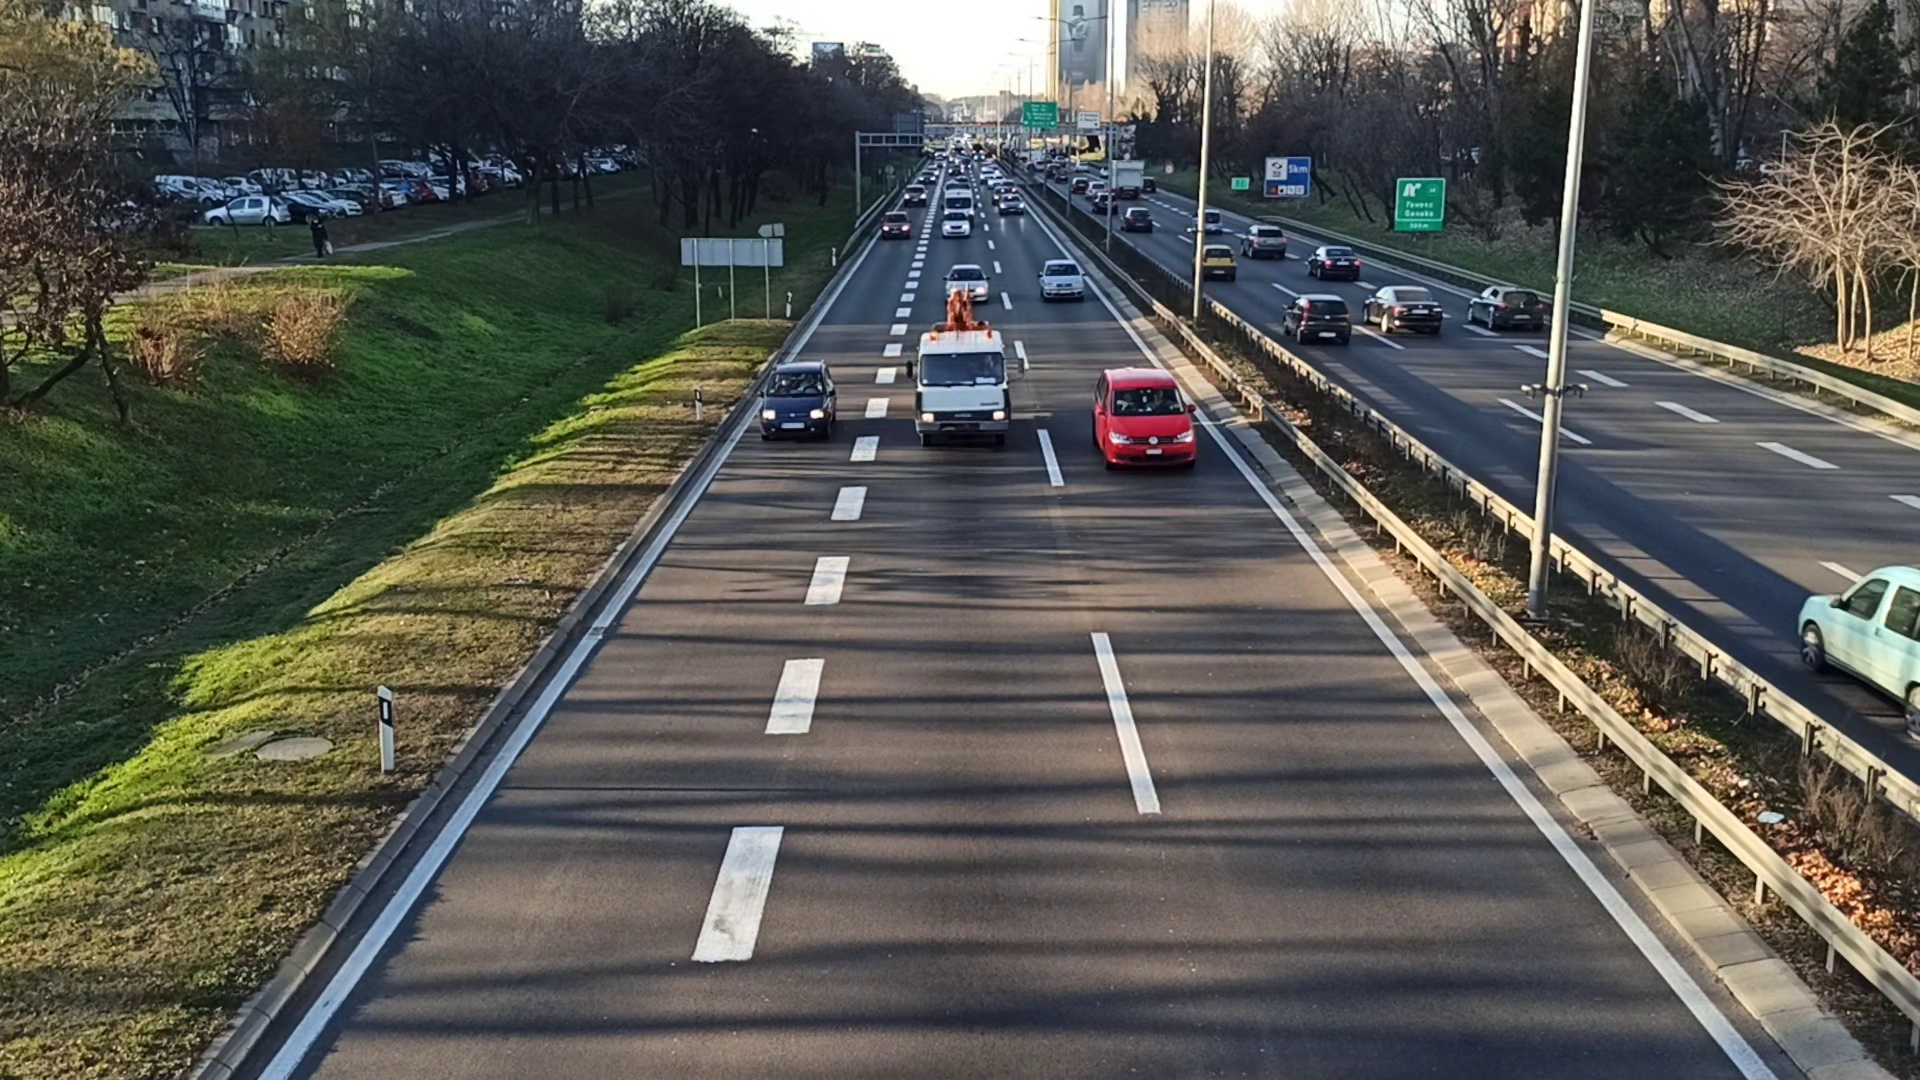car: (1091, 367, 1197, 469), (760, 360, 835, 442), (1360, 282, 1441, 335), (1280, 294, 1352, 349), (1466, 286, 1544, 335), (1039, 253, 1084, 303), (1307, 244, 1360, 282), (947, 260, 989, 303), (1241, 223, 1284, 258), (881, 210, 910, 236), (940, 214, 971, 239)
truck: (913, 295, 1014, 450)
